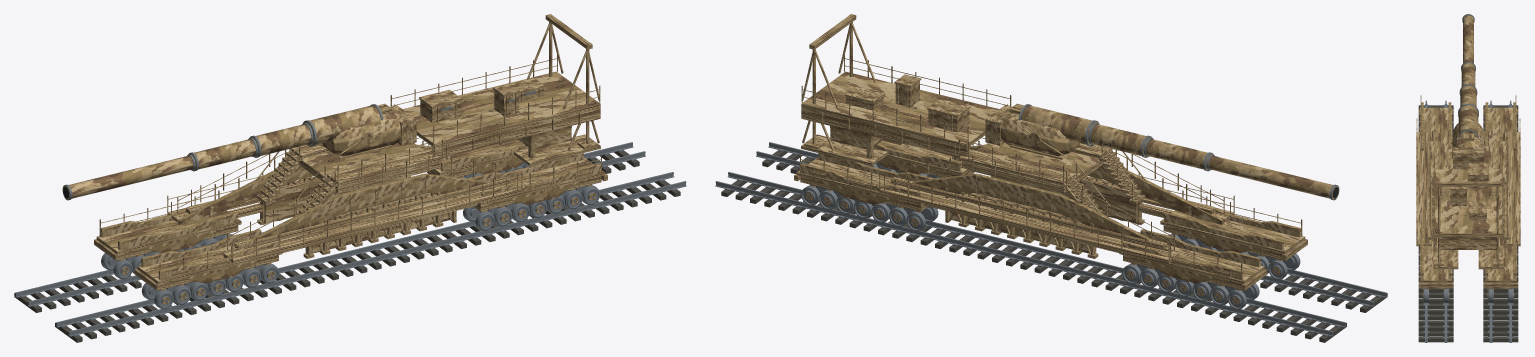
The model's file is runtime-camo-desert.glb.
3 renders of one model, left to right at view 1: azimuth 30°, elevation 25°; view 2: azimuth 150°, elevation 25°; view 3: azimuth 270°, elevation 25°, orthographic. The views are drawn at different scales.
Visible parts, largest first — view 1: main-outer-frame-paint-batch, walkways-deck-batch, display-rails-steel-batch, closed-cylinder-shell-paint-batch, display-rails-sleeper-batch, rear-display-deck-deck-batch, walkways-trim-batch, rear-display-deck-trim-batch, rear-display-deck-paint-batch, main-outer-frame-trim-batch, surface-decoration-trim-batch, surface-decoration-paint-batch (+1 smaller); view 2: main-outer-frame-paint-batch, walkways-deck-batch, display-rails-steel-batch, closed-cylinder-shell-paint-batch, display-rails-sleeper-batch, rear-display-deck-deck-batch, walkways-trim-batch, rear-display-deck-trim-batch, rear-display-deck-paint-batch, main-outer-frame-trim-batch, surface-decoration-trim-batch, surface-decoration-paint-batch (+1 smaller); view 3: walkways-deck-batch, rear-display-deck-deck-batch, display-rails-sleeper-batch, closed-cylinder-shell-paint-batch, main-outer-frame-paint-batch, rear-display-deck-trim-batch, walkways-trim-batch, surface-decoration-trim-batch, rear-display-deck-paint-batch, display-rails-steel-batch, closed-cylinder-shell-steel-batch, closed-cylinder-shell-trim-batch (+1 smaller).
Boxes of the visible parts, <box> form: main-outer-frame-paint-batch: <box>100,143,601,290</box>; walkways-deck-batch: <box>96,140,604,284</box>; display-rails-steel-batch: <box>15,142,686,336</box>; closed-cylinder-shell-paint-batch: <box>62,105,416,199</box>; display-rails-sleeper-batch: <box>14,150,680,342</box>; rear-display-deck-deck-batch: <box>402,71,600,165</box>; walkways-trim-batch: <box>99,104,601,280</box>; rear-display-deck-trim-batch: <box>390,22,600,149</box>; rear-display-deck-paint-batch: <box>420,14,600,158</box>; main-outer-frame-trim-batch: <box>119,172,592,290</box>; surface-decoration-trim-batch: <box>94,87,607,290</box>; surface-decoration-paint-batch: <box>121,172,596,304</box>; main-outer-frame-paint-batch: <box>800,143,1301,290</box>; walkways-deck-batch: <box>797,140,1305,284</box>; display-rails-steel-batch: <box>715,142,1386,336</box>; closed-cylinder-shell-paint-batch: <box>985,105,1339,199</box>; display-rails-sleeper-batch: <box>721,150,1387,342</box>; rear-display-deck-deck-batch: <box>801,71,999,165</box>; walkways-trim-batch: <box>800,104,1302,280</box>; rear-display-deck-trim-batch: <box>801,22,1011,149</box>; rear-display-deck-paint-batch: <box>801,14,969,158</box>; main-outer-frame-trim-batch: <box>809,172,1282,290</box>; surface-decoration-trim-batch: <box>794,83,1307,290</box>; surface-decoration-paint-batch: <box>805,172,1279,304</box>; walkways-deck-batch: <box>1416,107,1520,283</box>; rear-display-deck-deck-batch: <box>1433,169,1503,269</box>; display-rails-sleeper-batch: <box>1418,105,1518,342</box>; closed-cylinder-shell-paint-batch: <box>1452,15,1484,169</box>; main-outer-frame-paint-batch: <box>1421,102,1515,288</box>; rear-display-deck-trim-batch: <box>1434,155,1502,261</box>; walkways-trim-batch: <box>1416,95,1520,279</box>; surface-decoration-trim-batch: <box>1418,107,1518,287</box>; rear-display-deck-paint-batch: <box>1433,176,1503,245</box>; display-rails-steel-batch: <box>1423,100,1513,342</box>; closed-cylinder-shell-steel-batch: <box>1458,14,1478,138</box>; closed-cylinder-shell-trim-batch: <box>1451,133,1485,144</box>.
Bounding box in the file's own units: 26 × 6.54 × 4.8.
Materials: 6 (3 with a texture image).
